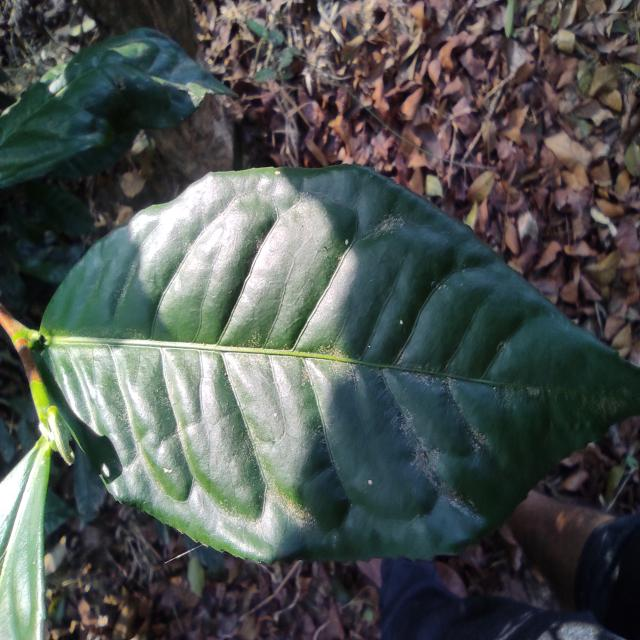Category D(7+ days, Not for Tea): (31, 149, 640, 581)
